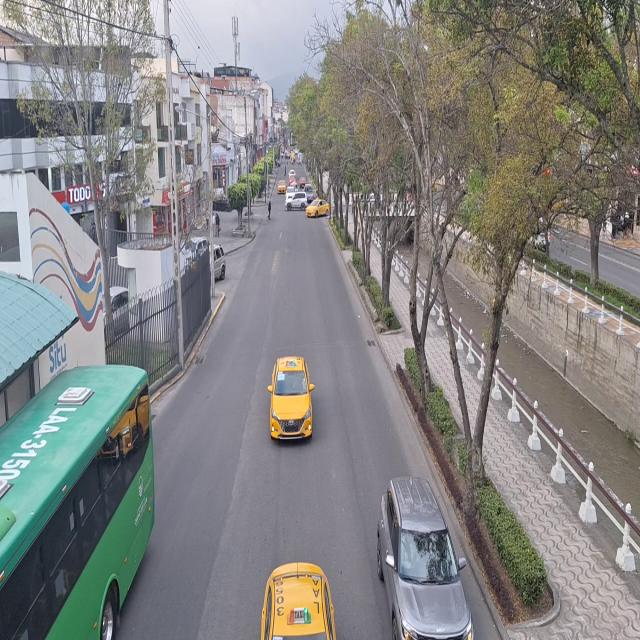BUS: (0, 376, 143, 640)
SED: (270, 361, 311, 442)
SUV: (382, 480, 466, 640)
